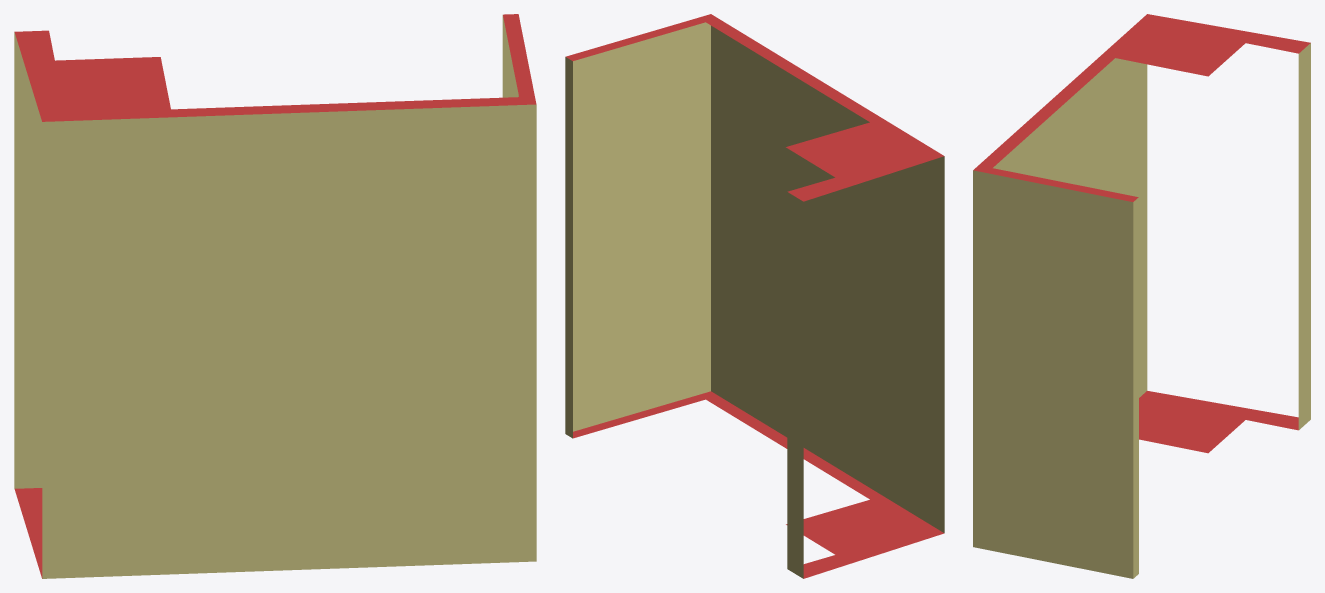
The picture shows the model from 3 angles, left to right: view 1: azimuth 30°, elevation 25°; view 2: azimuth 150°, elevation 25°; view 3: azimuth 270°, elevation 25°; orthographic projection. The views are drawn at different scales.
Size of the model in its own units: 7.18 by 5.45 by 6.7.
